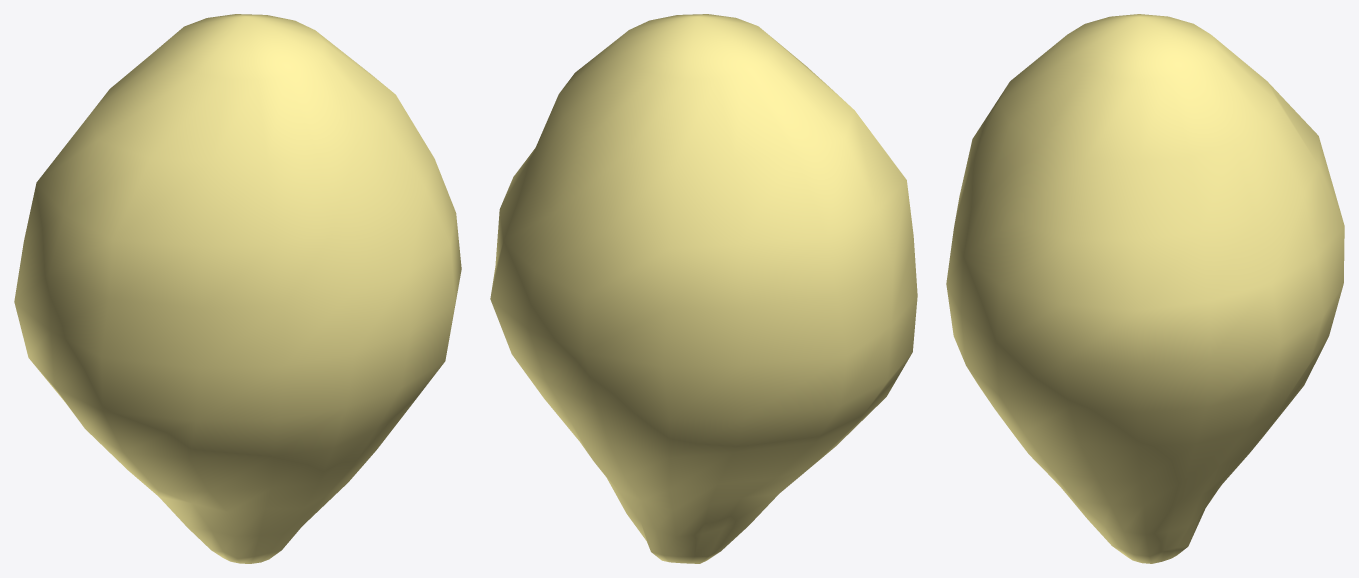
Rendered from MeshLettuceC3_0.obj.
3 renders of one model, left to right at view 1: azimuth 30°, elevation 25°; view 2: azimuth 150°, elevation 25°; view 3: azimuth 270°, elevation 25°, orthographic.
Parts seen in each view (by area): view 1: LettuceC3; view 2: LettuceC3; view 3: LettuceC3.
Boxes of the visible parts, left/top/right/bottom form: LettuceC3: left=14, top=14, right=461, bottom=563; LettuceC3: left=490, top=14, right=917, bottom=563; LettuceC3: left=946, top=14, right=1344, bottom=563.
Bounding box in the file's own units: 0.1867 × 0.2515 × 0.1708.
